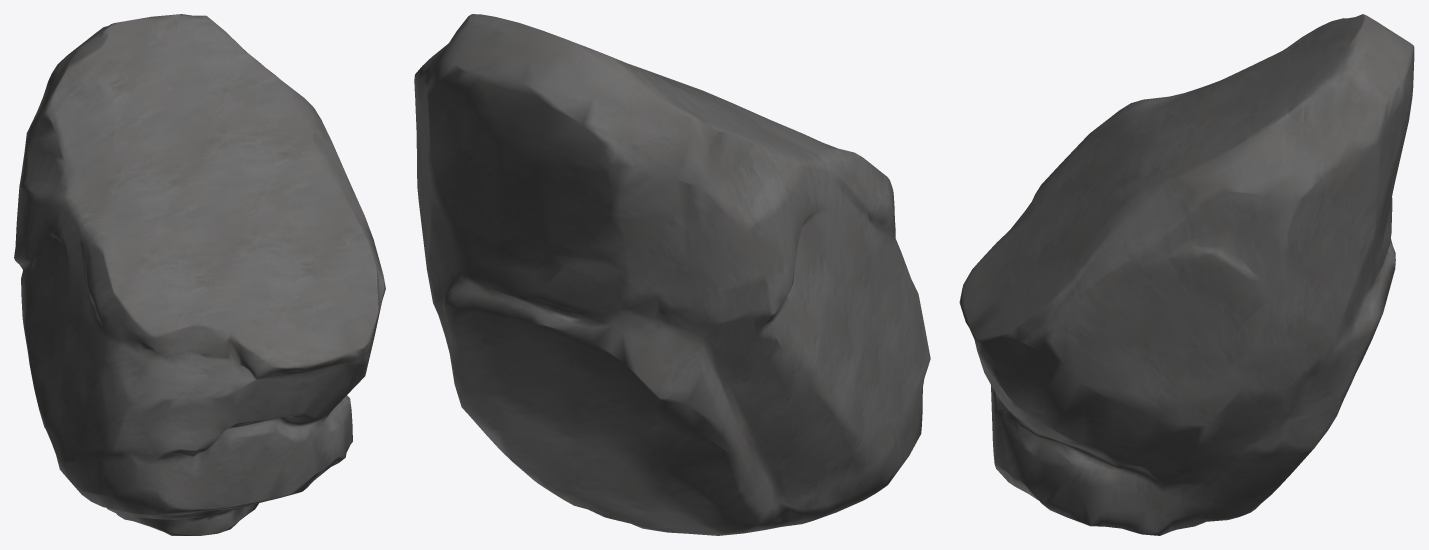
Rendered from Cliff1.fbx.
The picture shows the model from 3 angles, left to right: view 1: azimuth 30°, elevation 25°; view 2: azimuth 150°, elevation 25°; view 3: azimuth 270°, elevation 25°; orthographic projection. The views are drawn at different scales.
Visible parts, largest first — view 1: Cliffstone:Group5508; view 2: Cliffstone:Group5508; view 3: Cliffstone:Group5508.
Part boxes in pixels (bbox=[...]): Cliffstone:Group5508: bbox=[14, 14, 385, 535]; Cliffstone:Group5508: bbox=[414, 14, 930, 535]; Cliffstone:Group5508: bbox=[959, 14, 1414, 535].
Size of the model in its own units: 780 by 995 by 855.
